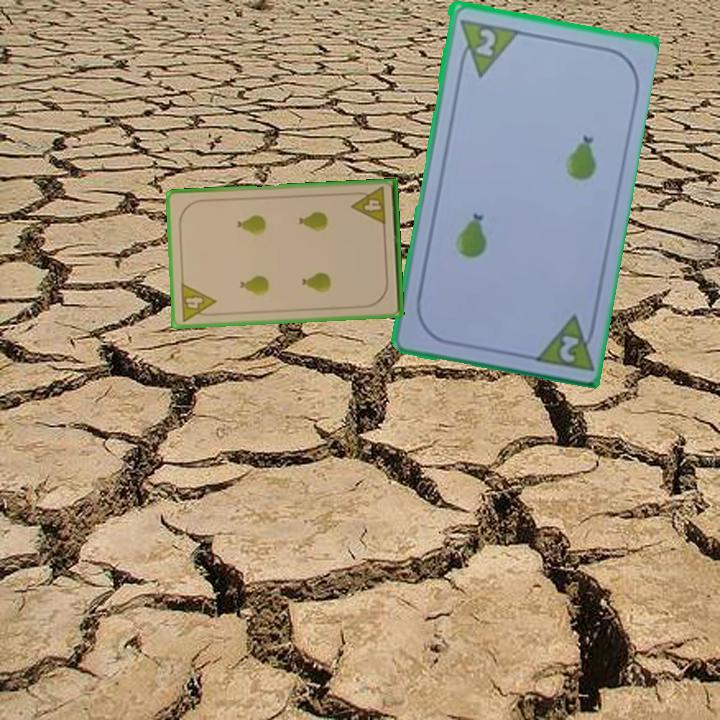2p: (529, 309, 599, 374), (454, 15, 519, 79)
4p: (177, 279, 219, 324), (348, 184, 389, 228)
